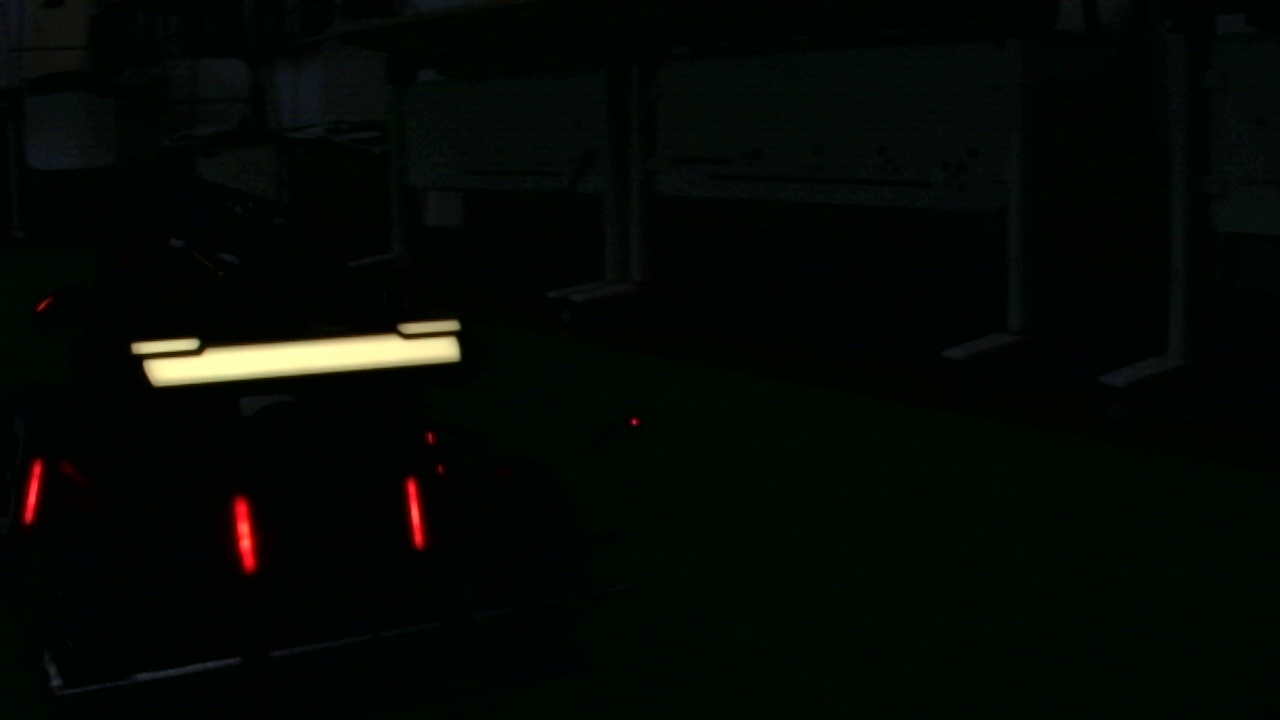lamp: (229, 494, 258, 568), (23, 450, 46, 527), (403, 470, 424, 548)
notpair1: (22, 450, 261, 573)
pair1: (235, 476, 421, 569)
